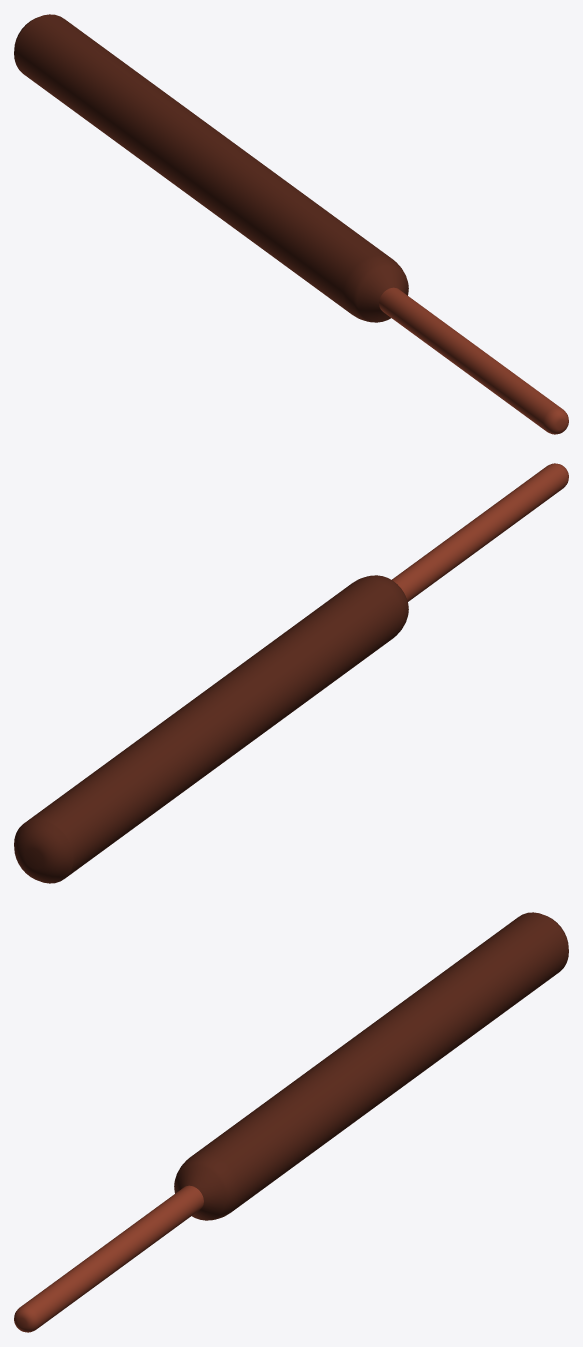
File:  Salgadinho Palitinho .fbx
The picture shows the model from 3 angles, top to bottom: view 1: azimuth 30°, elevation 25°; view 2: azimuth 150°, elevation 25°; view 3: azimuth 330°, elevation 25°; orthographic projection.
Visible parts, largest first — view 1: Cylinder.001; view 2: Cylinder.001; view 3: Cylinder.001.
Part boxes in pixels (left/top/right/bottom): Cylinder.001: left=14, top=14, right=568, bottom=434; Cylinder.001: left=14, top=463, right=568, bottom=883; Cylinder.001: left=14, top=912, right=568, bottom=1332.
Bounding box in the file's own units: 0.1169 × 0.1169 × 1.79.
